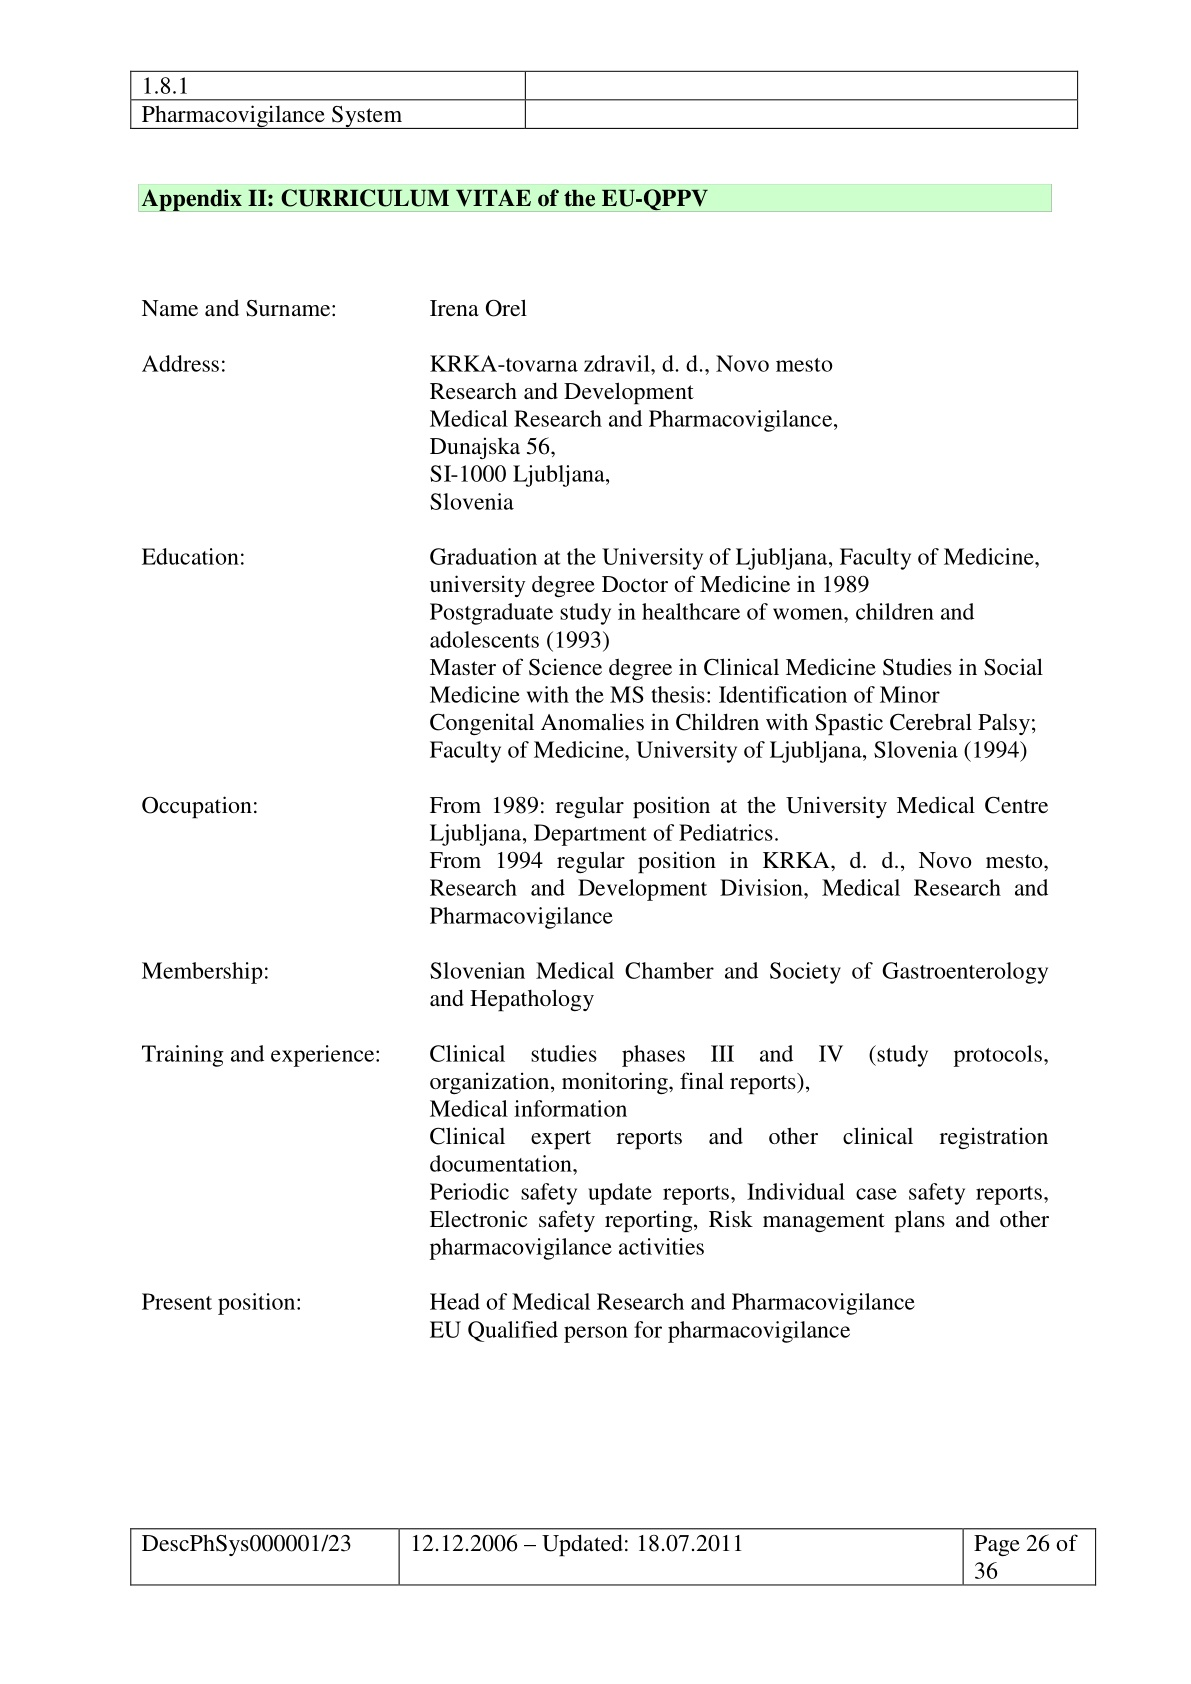full_lined: (130, 70, 1079, 129), (130, 1528, 1097, 1586)
nolines: (135, 289, 1056, 1345)
